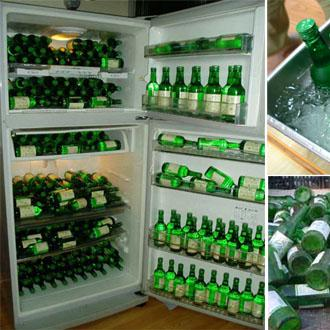soju: (16, 216, 131, 296), (149, 206, 264, 271), (148, 258, 264, 319), (140, 66, 245, 123), (12, 169, 129, 218), (6, 30, 127, 69), (153, 160, 266, 201), (10, 74, 126, 109), (155, 130, 268, 156), (12, 132, 126, 151), (145, 32, 247, 50)
